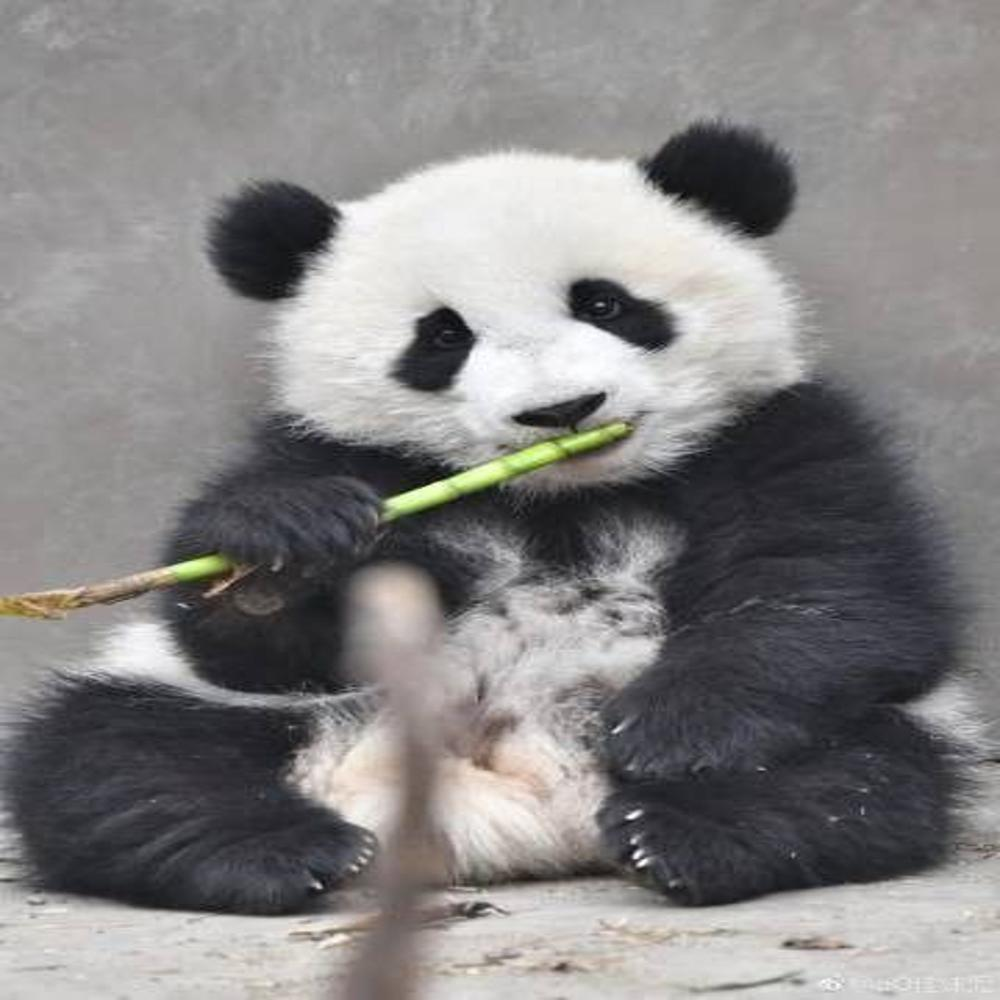panda: (26, 122, 1000, 928)
